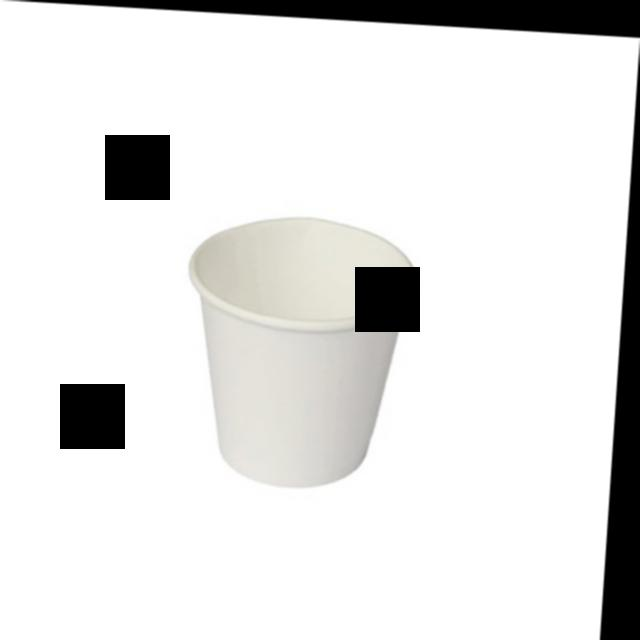karton-bardak: (177, 205, 452, 519)
